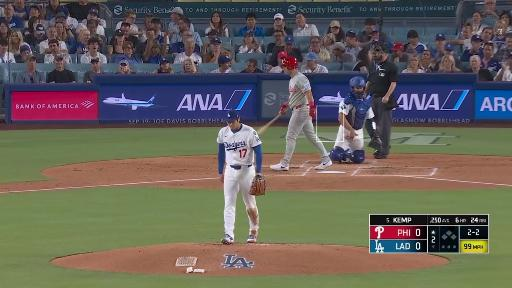pitcher: (217, 108, 266, 245)
